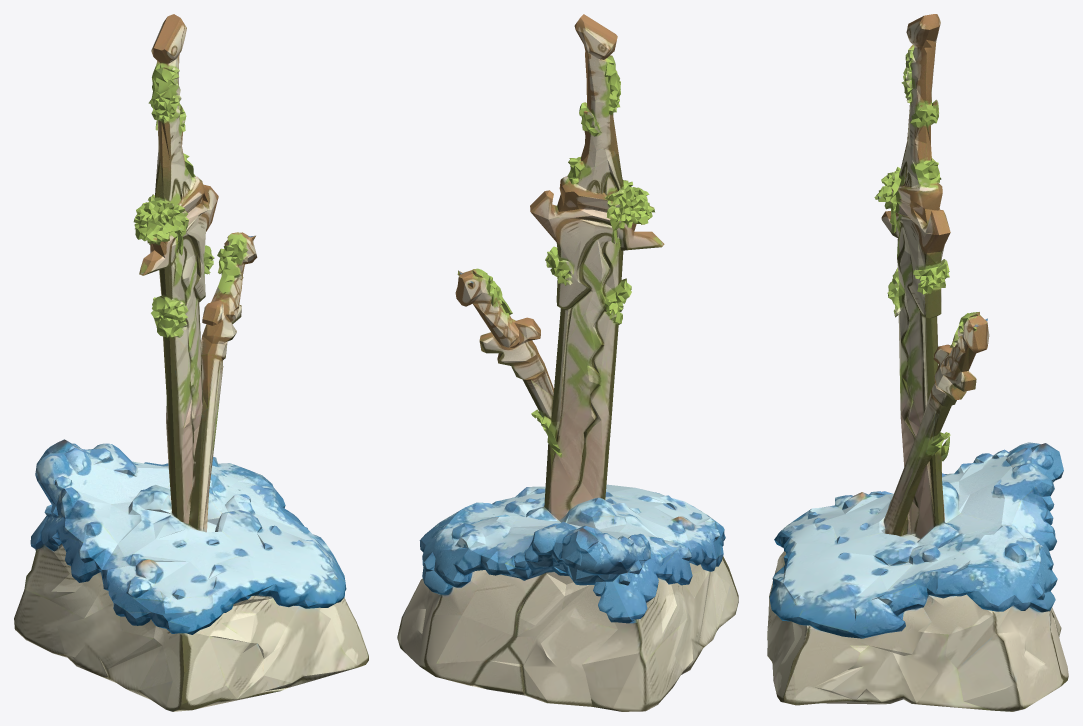
File: mana.glb
3 views of the same model, side by side, from view 1: azimuth 30°, elevation 25°; view 2: azimuth 150°, elevation 25°; view 3: azimuth 270°, elevation 25° (orthographic).
Visible parts, largest first — view 1: output_unwrapped; view 2: output_unwrapped; view 3: output_unwrapped.
Boxes of the visible parts, <box> form: output_unwrapped: <box>14,14,368,711</box>; output_unwrapped: <box>397,14,738,711</box>; output_unwrapped: <box>767,14,1068,711</box>.
Bounding box in the file's own units: 0.7998 × 1.9 × 0.8184.
1 material, 1 textured.
